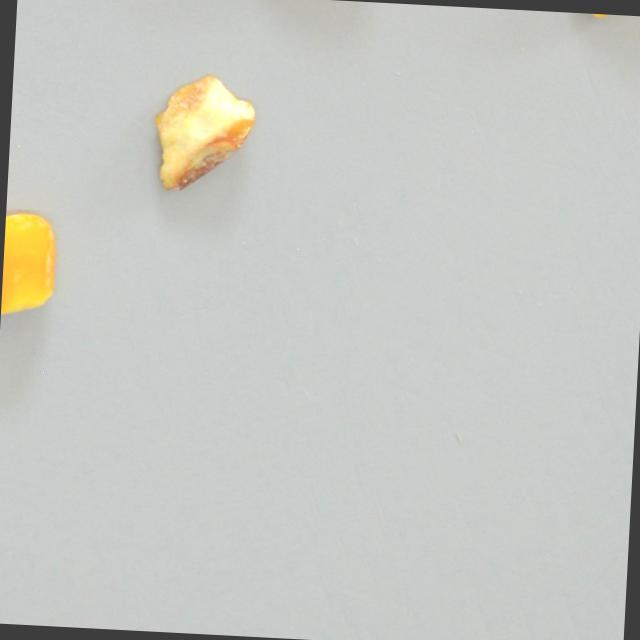dañado: (150, 75, 258, 195)
pelicula: (0, 210, 61, 320)
